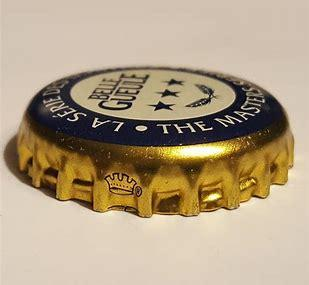metal: (17, 67, 295, 218)
